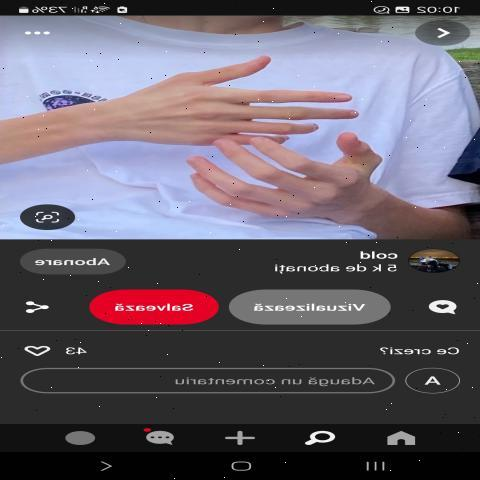Hands: (57, 34, 366, 150), (156, 127, 429, 232)
